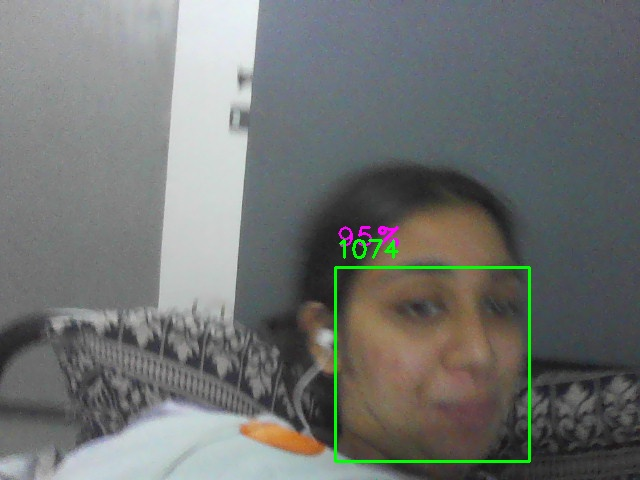real: (335, 267, 530, 462)
